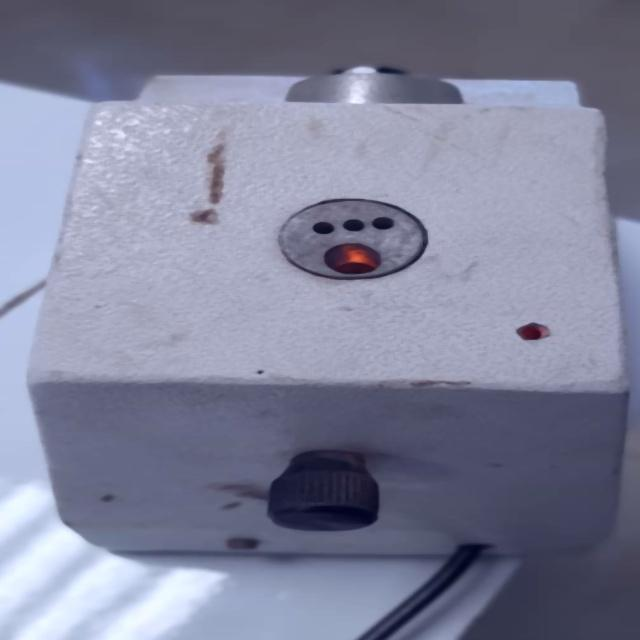Melting Point Apparatus: (21, 58, 638, 576)
